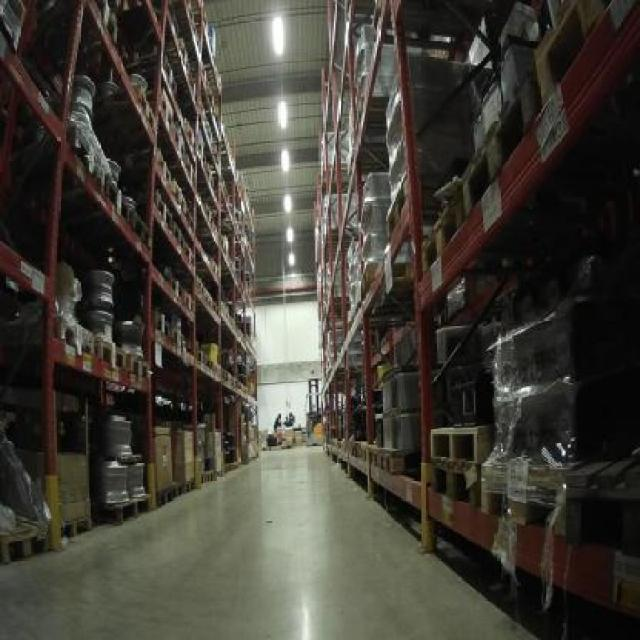ground: (0, 443, 638, 638)
pallet: (415, 74, 541, 278), (531, 0, 620, 109), (477, 443, 571, 536), (564, 446, 638, 555), (56, 309, 152, 382), (431, 424, 501, 514), (152, 187, 197, 269), (106, 178, 154, 252), (0, 508, 55, 568), (99, 492, 151, 529), (365, 446, 415, 480), (157, 473, 201, 506), (60, 506, 95, 544)
